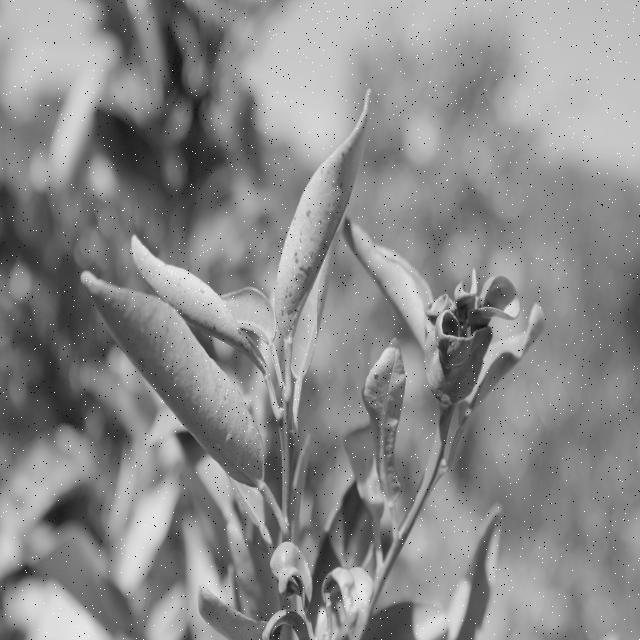melanose: (259, 111, 367, 327)
